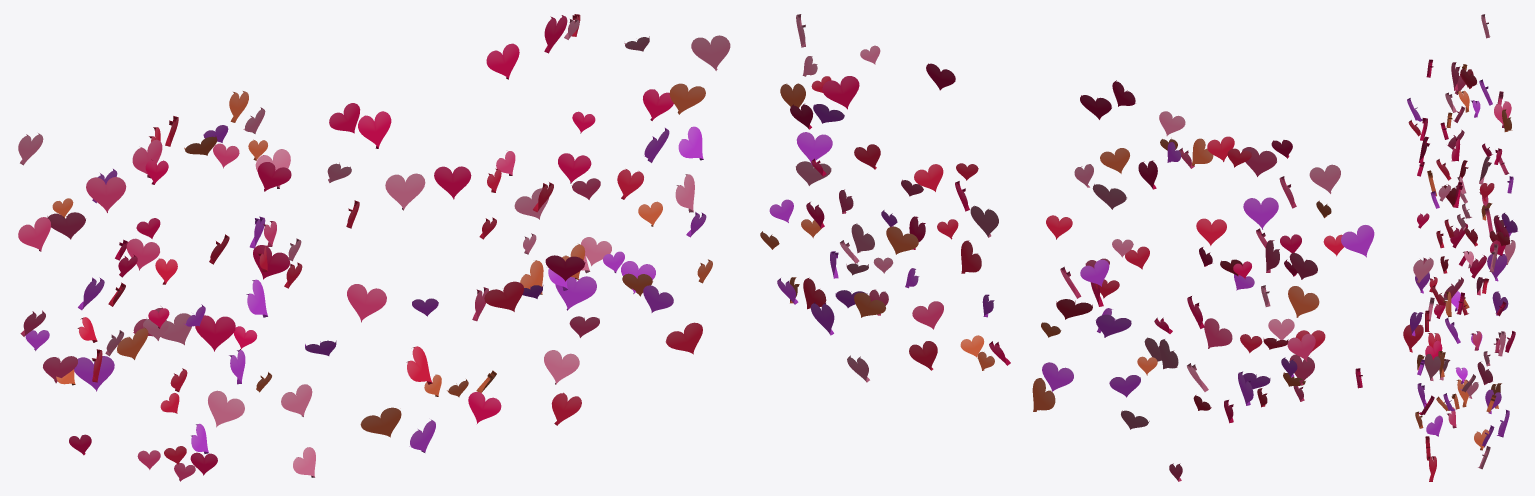
Rendered from hearts.glb.
3 renders of one model, left to right at view 1: azimuth 30°, elevation 25°; view 2: azimuth 150°, elevation 25°; view 3: azimuth 270°, elevation 25°, orthographic. The views are drawn at different scales.
Bounding box in the file's own units: 16.53 × 9.28 × 3.52.
